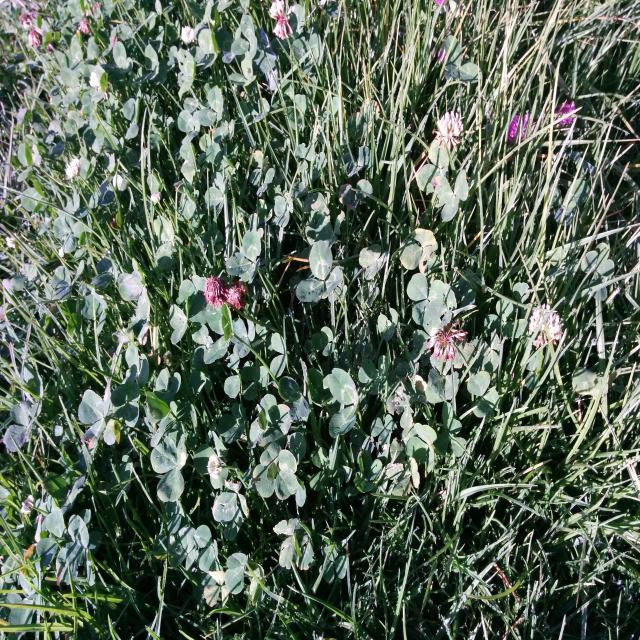Four Leaf Clover: (252, 444, 298, 500)
